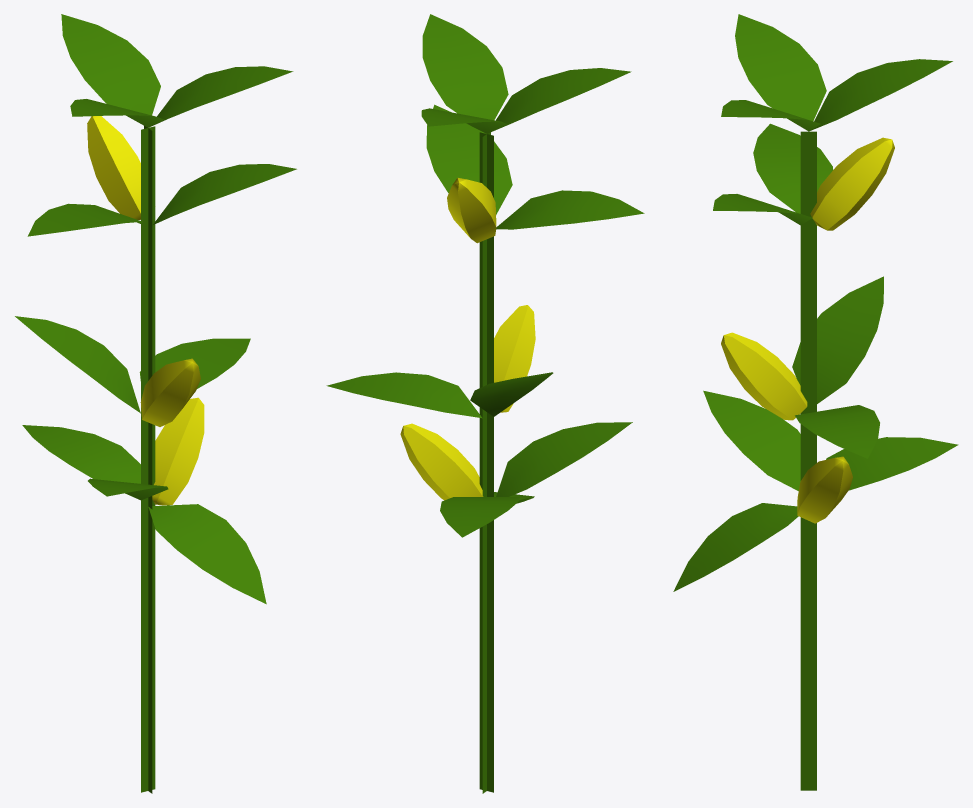
The model's file is SM_Corn.fbx.
3 renders of one model, left to right at view 1: azimuth 30°, elevation 25°; view 2: azimuth 150°, elevation 25°; view 3: azimuth 270°, elevation 25°, orthographic.
Parts seen in each view (by area): view 1: pPlane19; view 2: pPlane19; view 3: pPlane19.
Part boxes in pixels (left/top/right/bottom): pPlane19: left=15, top=14, right=296, bottom=793; pPlane19: left=326, top=14, right=644, bottom=793; pPlane19: left=673, top=14, right=958, bottom=790.
Size of the model in its own units: 63.95 by 163 by 58.41.
